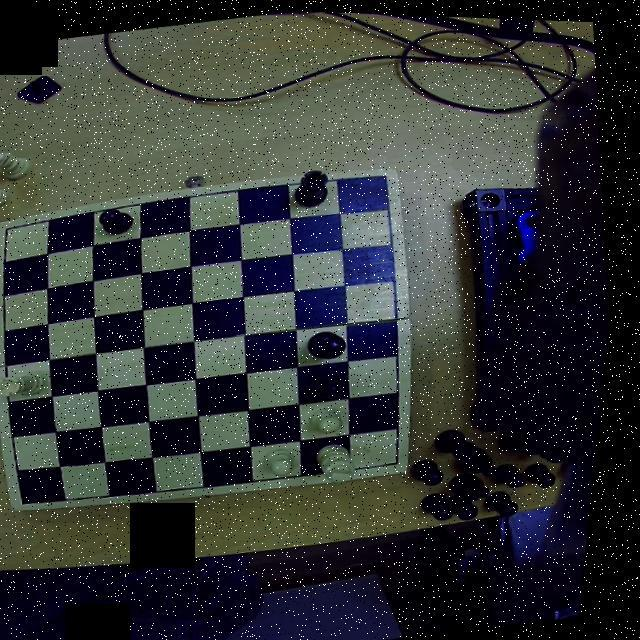chess-table-corners: (370, 165, 400, 191), (392, 446, 419, 470), (19, 492, 51, 512), (0, 223, 24, 245)
